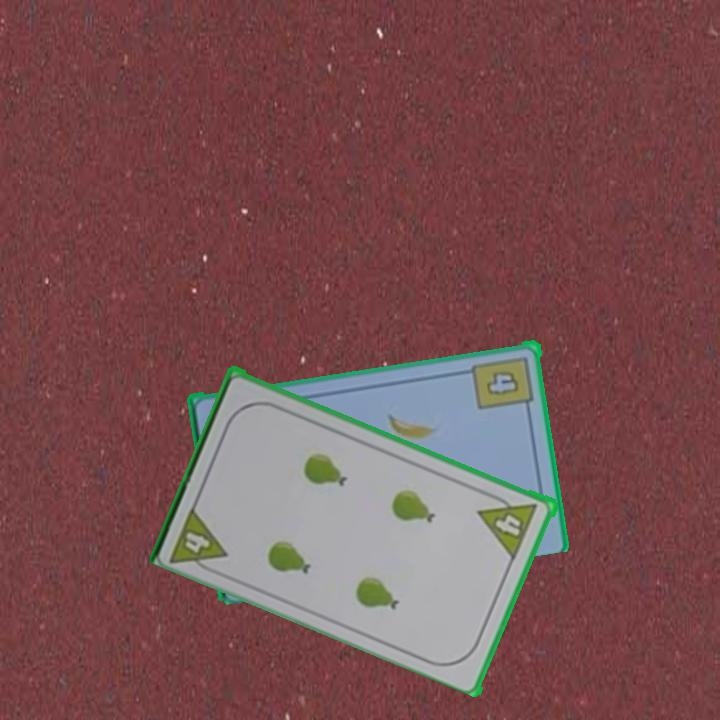4b: (470, 352, 537, 414)
4p: (166, 500, 232, 579), (476, 488, 541, 561)
